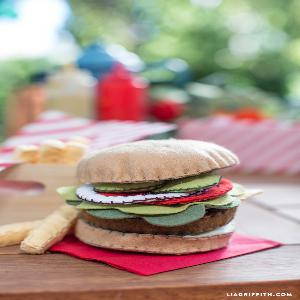cheeseburger_475cal: (55, 135, 255, 263)
